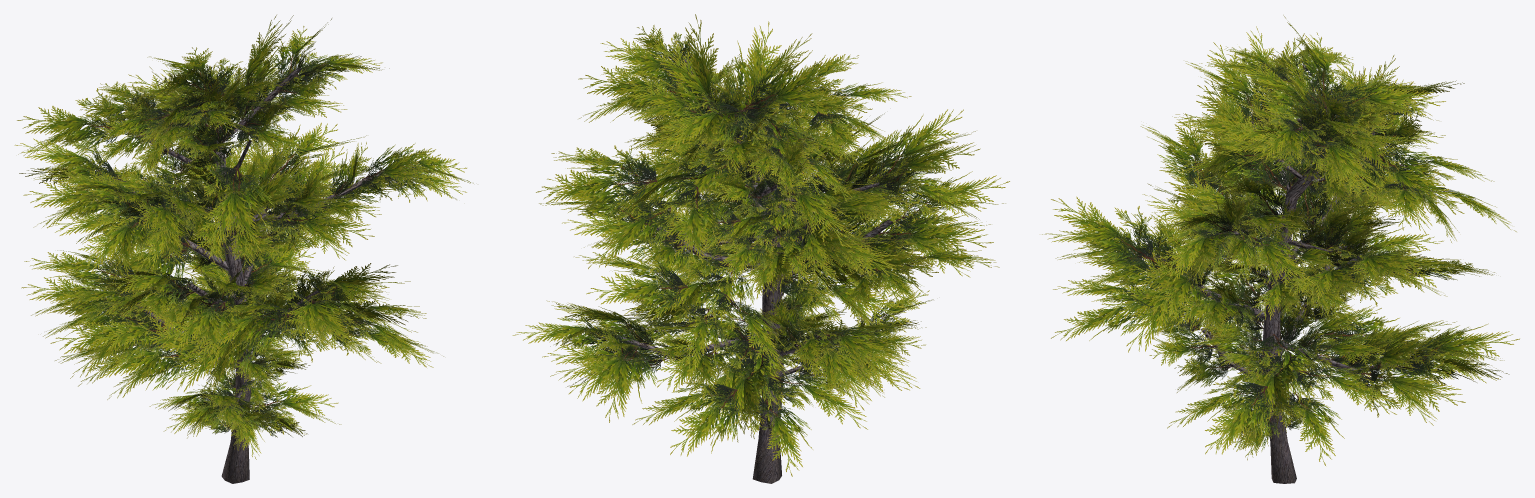
Rendered from m_tree_big_02.fbx.
The picture shows the model from 3 angles, left to right: view 1: azimuth 30°, elevation 25°; view 2: azimuth 150°, elevation 25°; view 3: azimuth 270°, elevation 25°; orthographic projection. The views are drawn at different scales.
Visible parts, largest first — view 1: polySurface512; view 2: polySurface512; view 3: polySurface512.
Part boxes in pixels (<box>): polySurface512: <box>14,15,473,483</box>; polySurface512: <box>512,14,1009,483</box>; polySurface512: <box>1042,15,1519,483</box>.
Size of the model in its own units: 1203 by 1279 by 1243.
